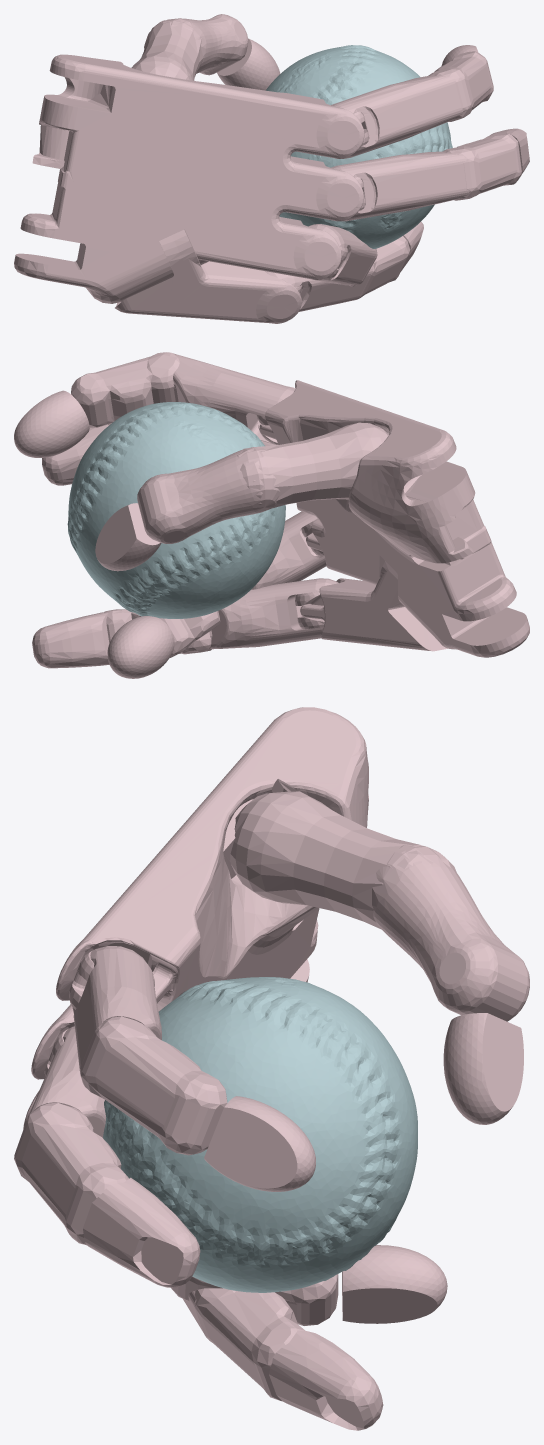
Rendered from grasp_6.glb.
3 renders of one model, top to bottom at view 1: azimuth 30°, elevation 25°; view 2: azimuth 150°, elevation 25°; view 3: azimuth 270°, elevation 25°, orthographic. The views are drawn at different scales.
Visible parts, largest first — view 1: world; view 2: world; view 3: world.
Boxes of the visible parts, x1,y1,x2,y2 form: world: (14, 14, 529, 323); world: (14, 352, 529, 678); world: (14, 707, 529, 1430).
Bounding box in the file's own units: 0.1973 × 0.1148 × 0.1178.
